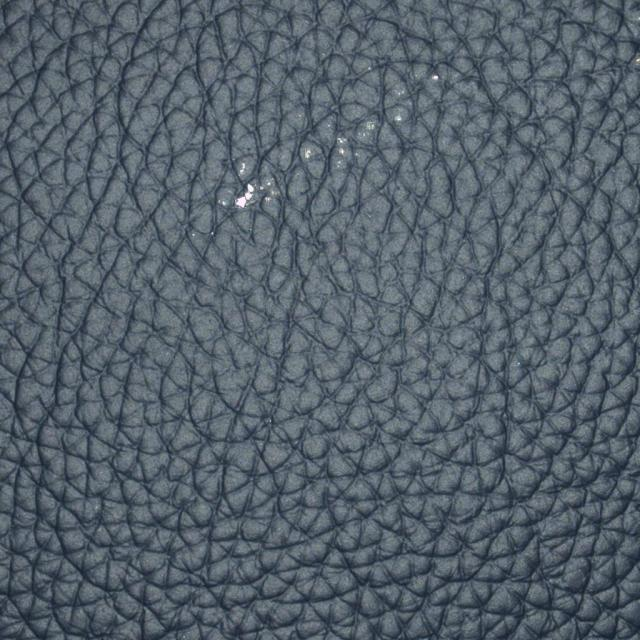Rotten surface: (196, 50, 477, 219)
